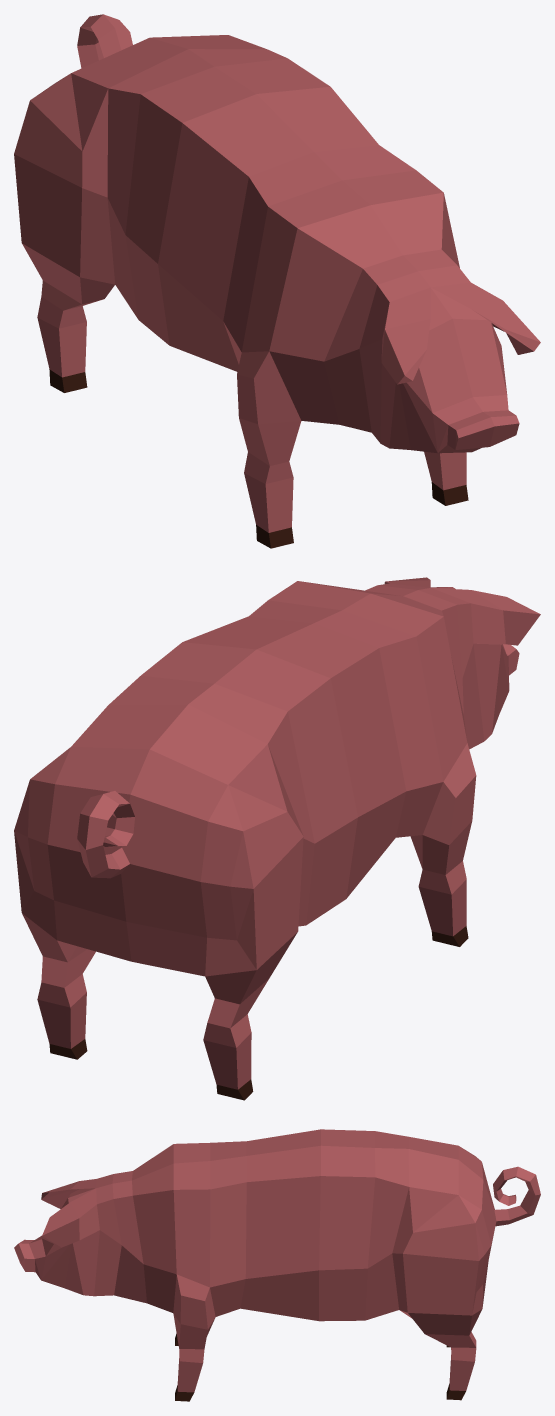
Rendered from pig.glb.
3 views of the same model, one above another, from view 1: azimuth 30°, elevation 25°; view 2: azimuth 150°, elevation 25°; view 3: azimuth 270°, elevation 25° (orthographic). The views are drawn at different scales.
Parts seen in each view (by area): view 1: Pig; view 2: Pig; view 3: Pig.
Part boxes in pixels (bbox=[...]): Pig: bbox=[14, 14, 540, 548]; Pig: bbox=[14, 577, 540, 1100]; Pig: bbox=[14, 1129, 540, 1401].
Bounding box in the file's own units: 3.31 × 4.59 × 9.78.
